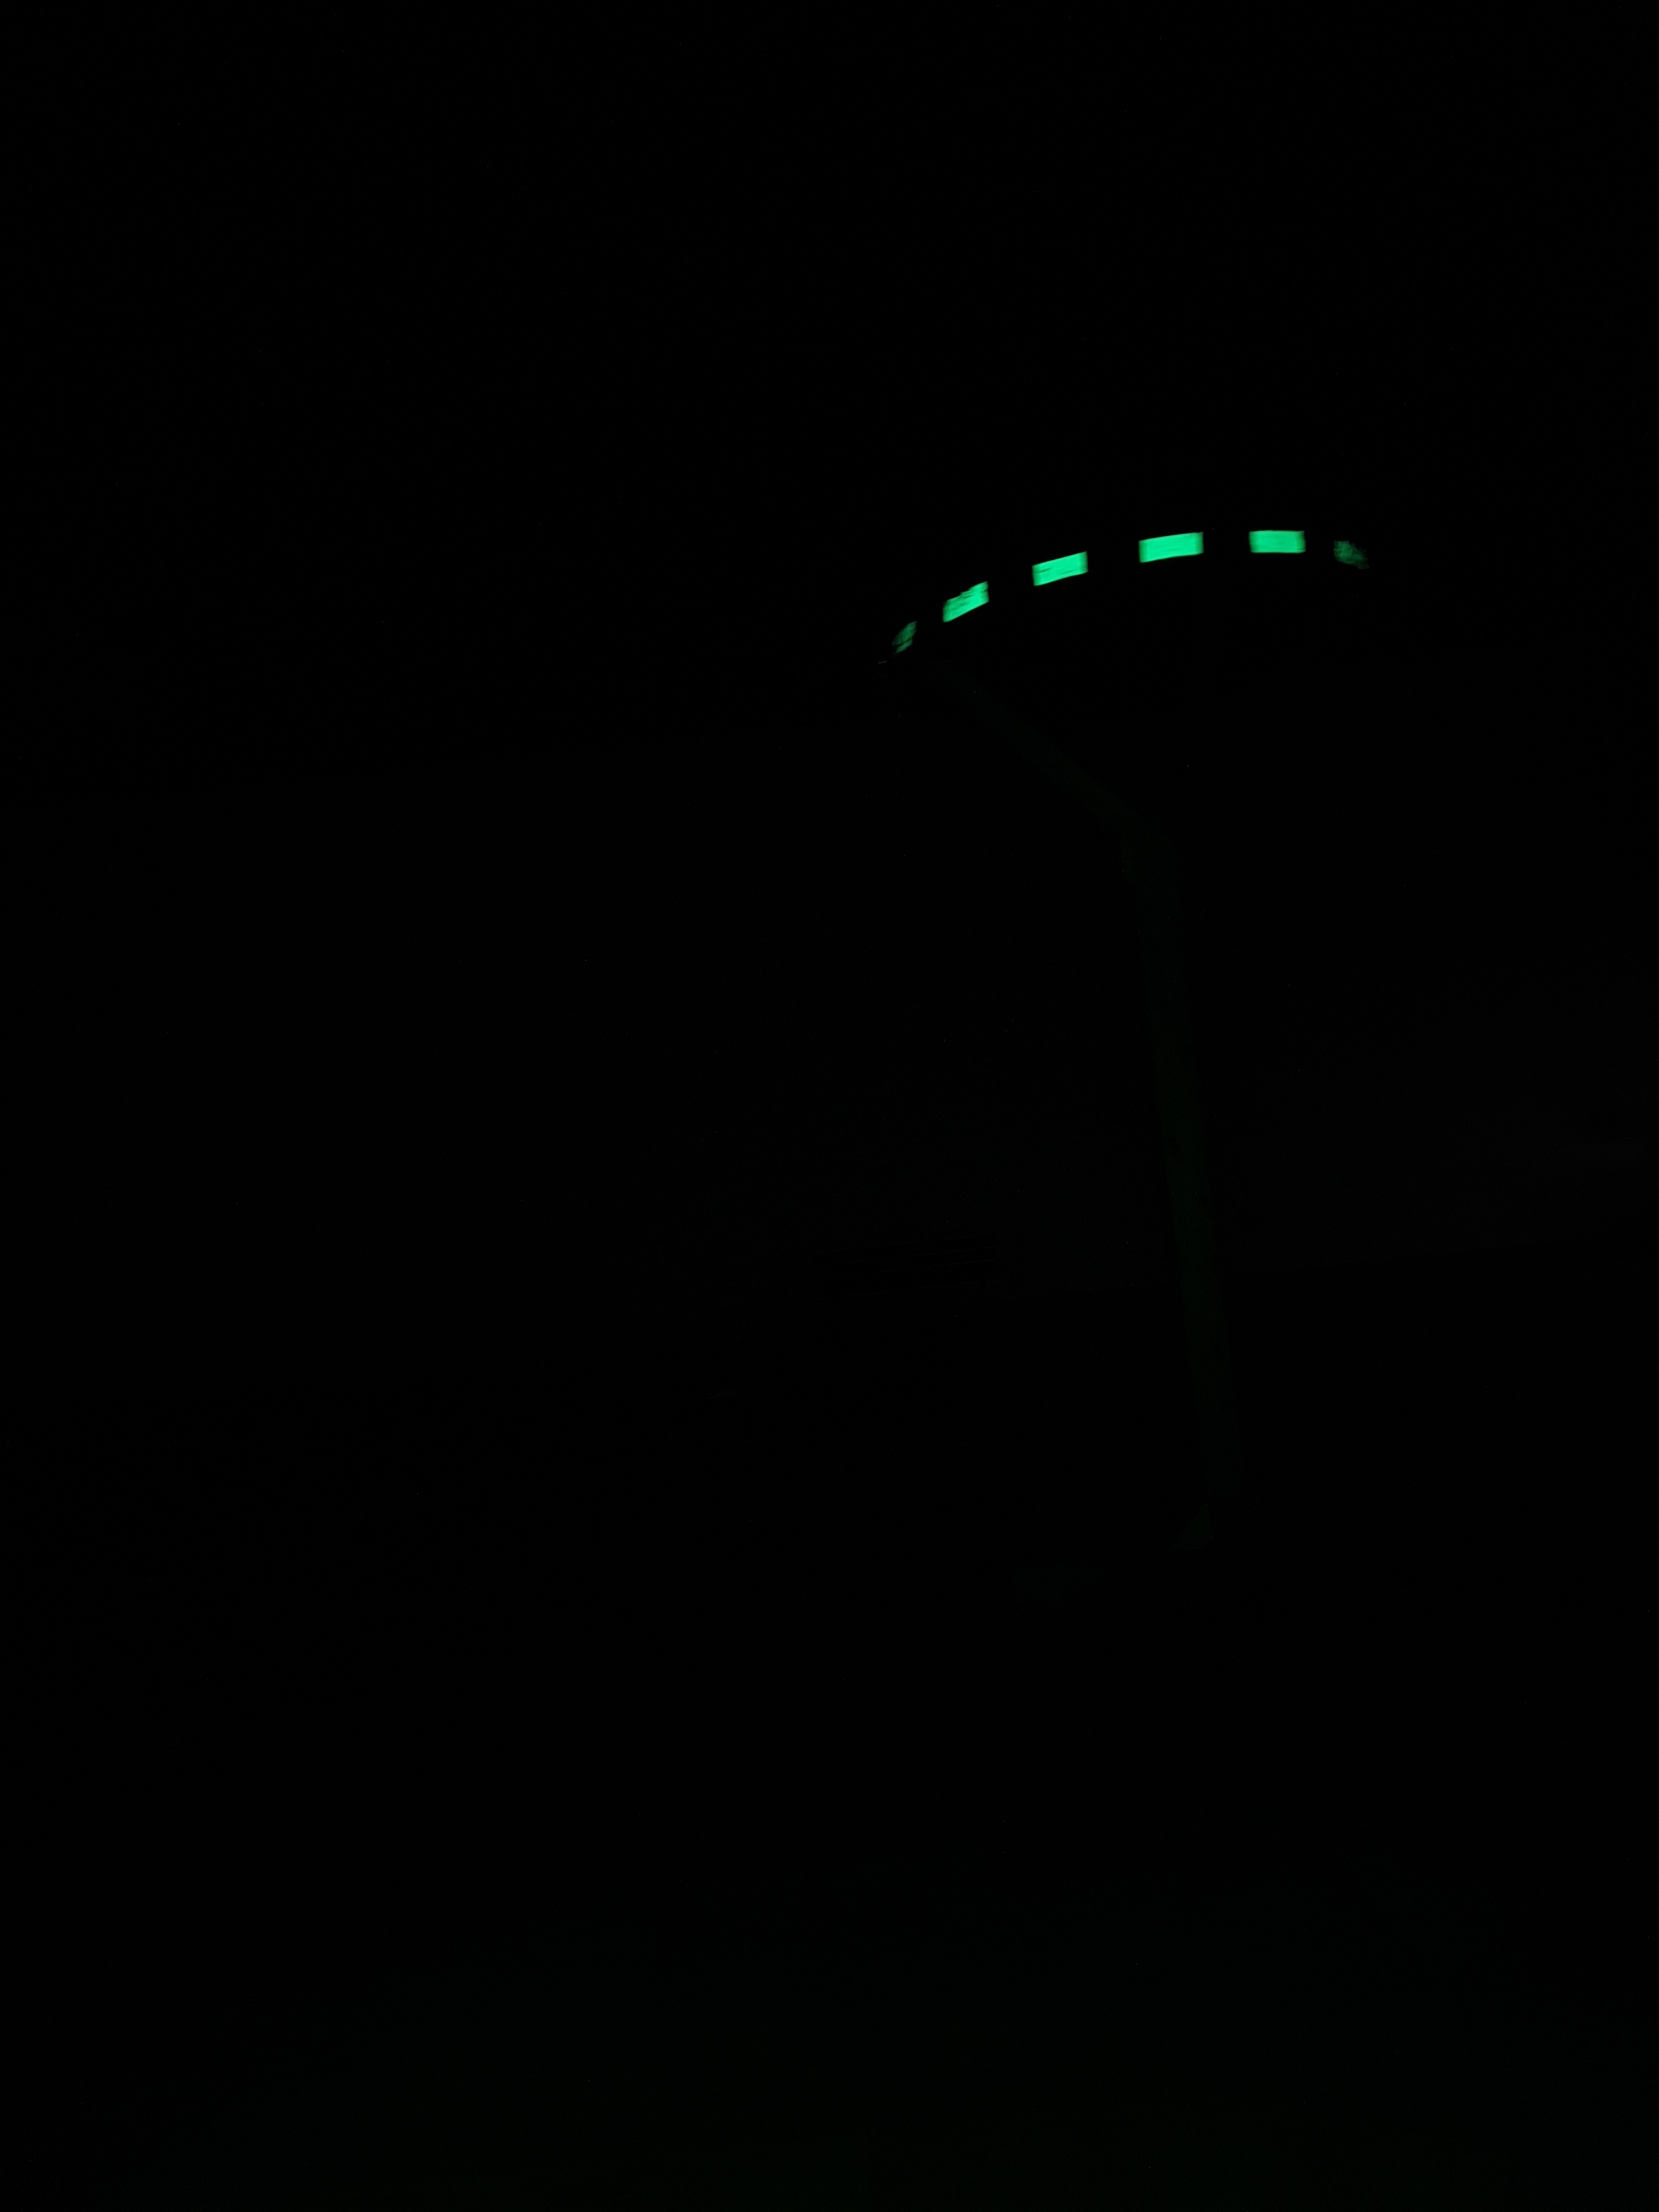hoop: (871, 493, 1408, 686)
